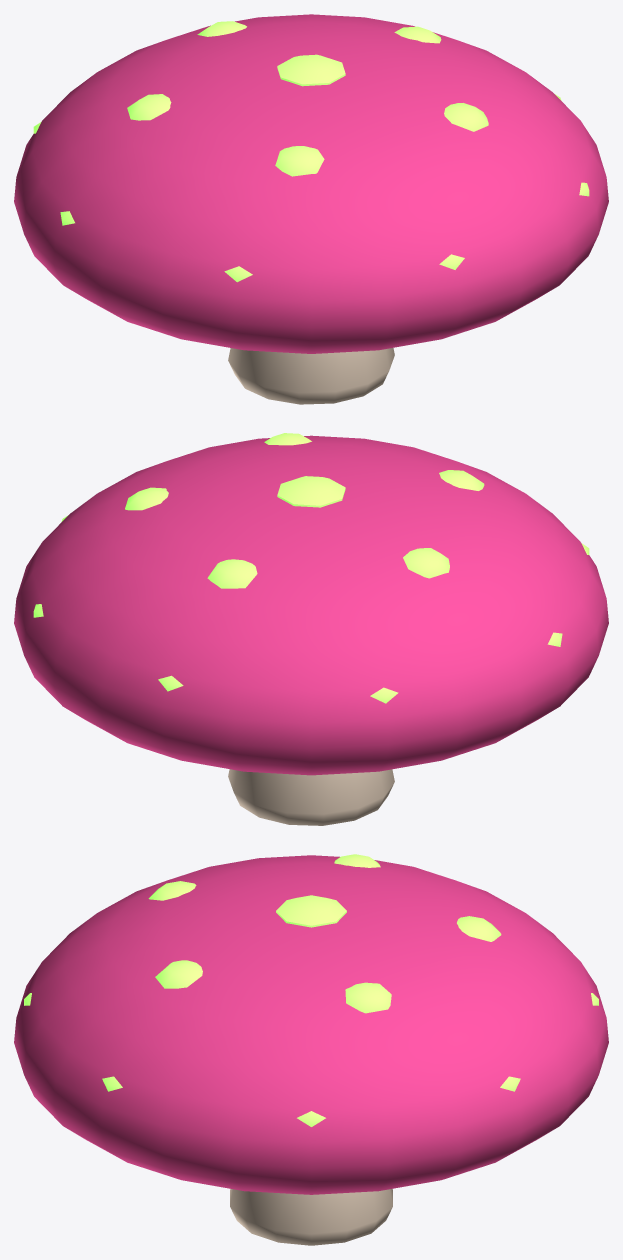
The model's file is HongoRebote.fbx.
3 renders of one model, top to bottom at view 1: azimuth 30°, elevation 25°; view 2: azimuth 150°, elevation 25°; view 3: azimuth 270°, elevation 25°, orthographic.
Visible parts, largest first — view 1: HongoRebote_Sombrero_Anim, HongoRebote_Pie, HongoRebote_Lunares_Neon_Anim; view 2: HongoRebote_Sombrero_Anim, HongoRebote_Pie, HongoRebote_Lunares_Neon_Anim; view 3: HongoRebote_Sombrero_Anim, HongoRebote_Pie, HongoRebote_Lunares_Neon_Anim.
Part boxes in pixels (left/top/right/bottom): HongoRebote_Sombrero_Anim: left=14, top=14, right=608, bottom=353; HongoRebote_Pie: left=228, top=348, right=394, bottom=404; HongoRebote_Lunares_Neon_Anim: left=33, top=21, right=589, bottom=282; HongoRebote_Sombrero_Anim: left=14, top=435, right=608, bottom=775; HongoRebote_Pie: left=228, top=769, right=394, bottom=825; HongoRebote_Lunares_Neon_Anim: left=33, top=433, right=589, bottom=703; HongoRebote_Sombrero_Anim: left=14, top=855, right=608, bottom=1194; HongoRebote_Pie: left=230, top=1189, right=392, bottom=1245; HongoRebote_Lunares_Neon_Anim: left=24, top=854, right=598, bottom=1126.
Bounding box in the file's own units: 6.4 × 3.77 × 6.4.
